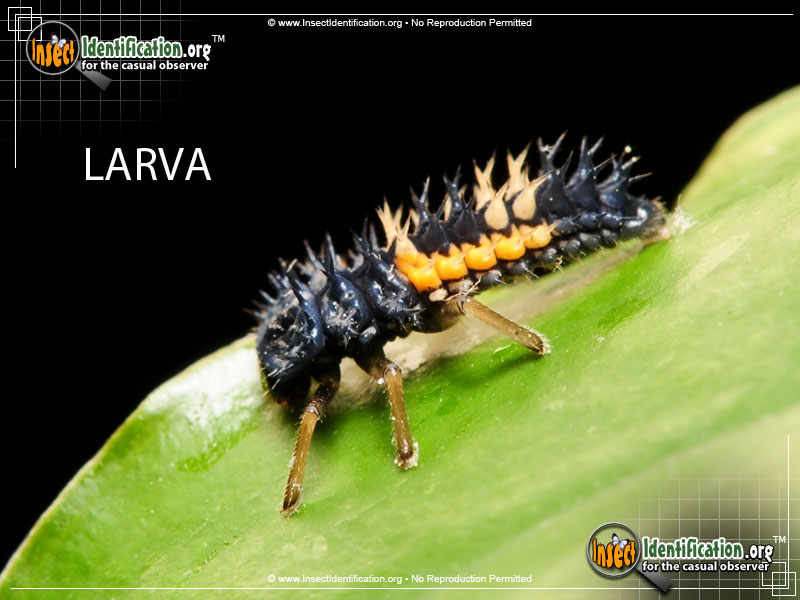Asian Multicolored Lady Beetle: (230, 105, 685, 490)
